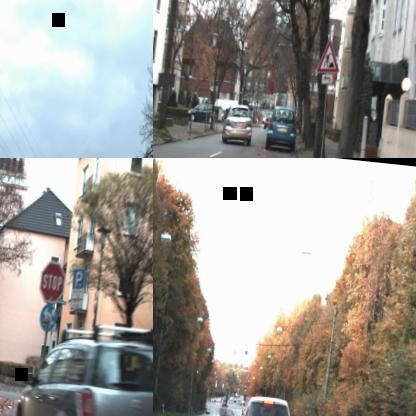CONSTRUCTION: (315, 36, 342, 74)
STOP: (38, 260, 66, 304)
go left or straight: (38, 302, 56, 332)
